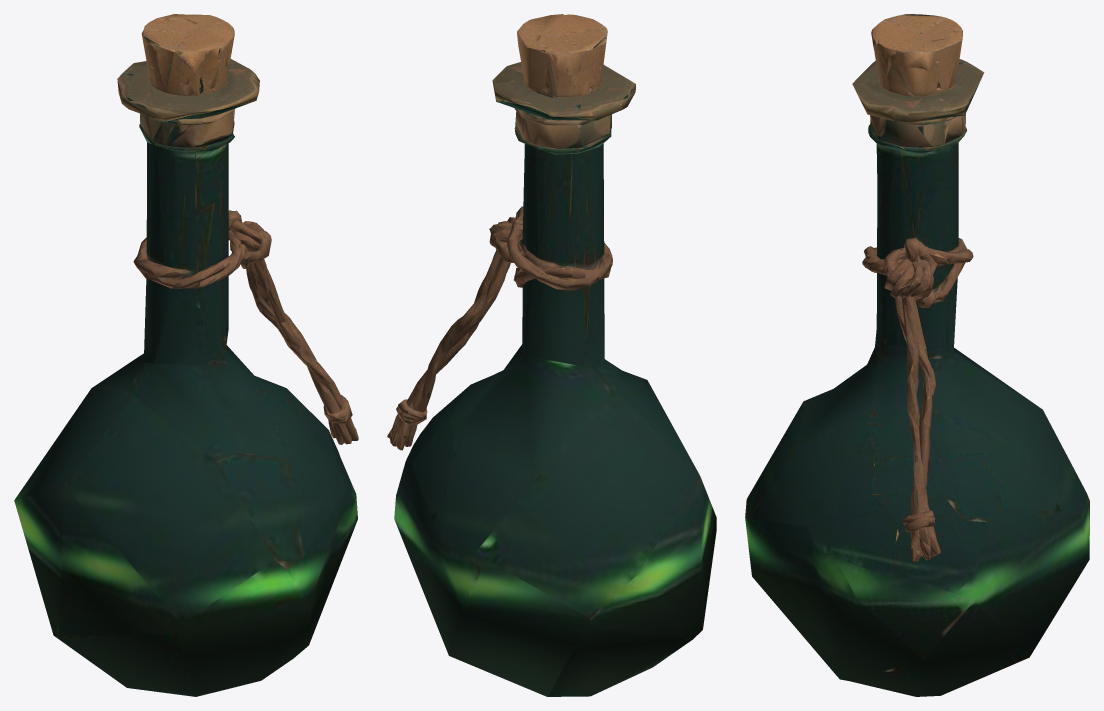
The model's file is weapon-flask.glb.
The picture shows the model from 3 angles, left to right: view 1: azimuth 30°, elevation 25°; view 2: azimuth 150°, elevation 25°; view 3: azimuth 270°, elevation 25°; orthographic projection.
Size of the model in its own units: 0.1274 by 0.2503 by 0.1247.
Materials: 1 (1 with a texture image).
